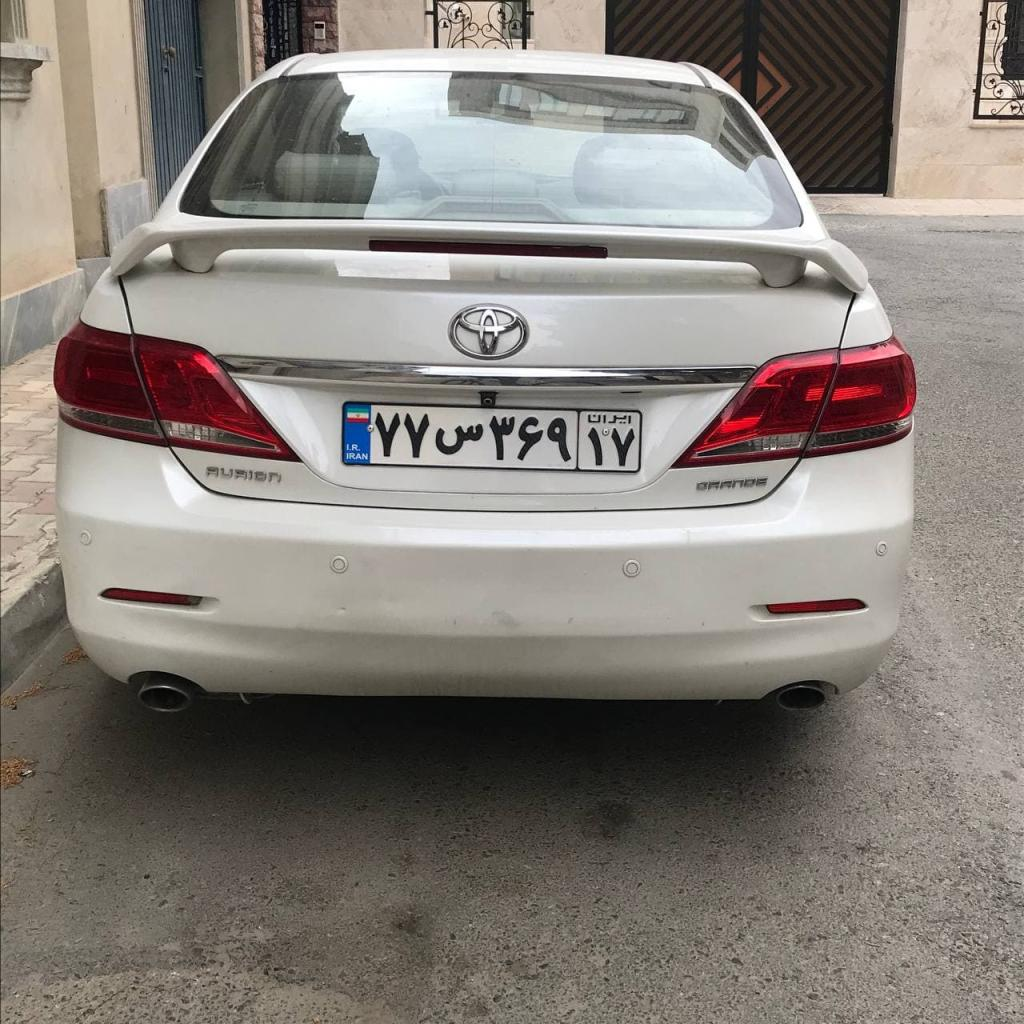Plates: (342, 403, 642, 470)
